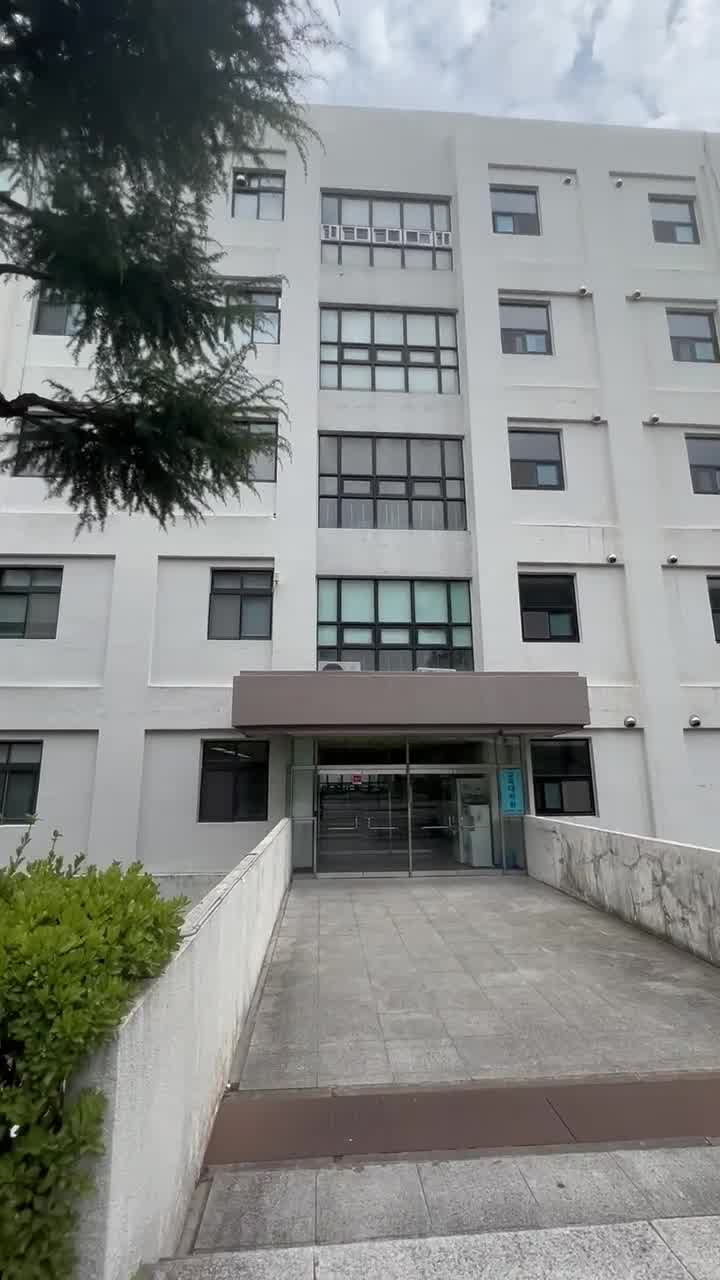low: (238, 132, 720, 846)
